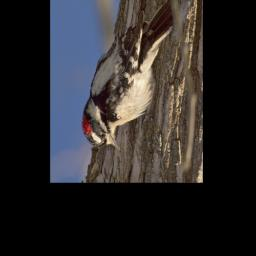Woodpecker: (81, 0, 174, 151)
